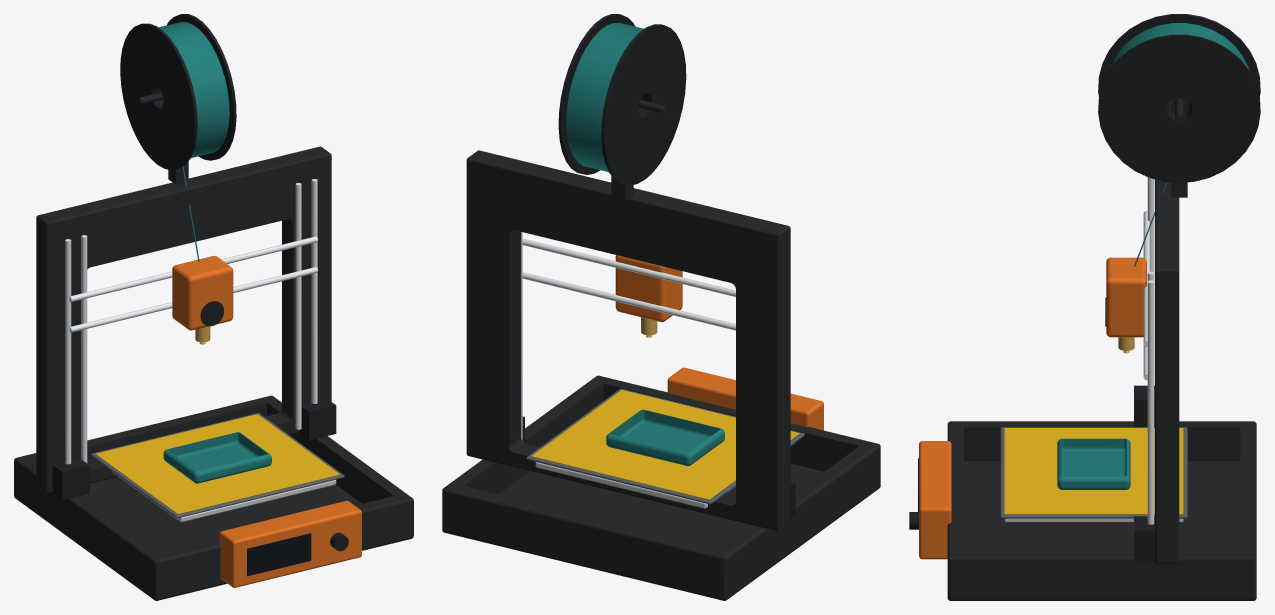
The model's file is printer-3d.glb.
3 views of the same model, side by side, from view 1: azimuth 30°, elevation 25°; view 2: azimuth 150°, elevation 25°; view 3: azimuth 270°, elevation 25° (orthographic). The views are drawn at different scales.
Parts seen in each view (by area): view 1: p3d_frame, p3d_base, p3d_pei, p3d_spool, p3d_rails, p3d_lcd_box, p3d_filament, p3d_xcarriage, p3d_print, p3d_motor_z, p3d_lcd, p3d_bed (+1 smaller); view 2: p3d_frame, p3d_base, p3d_spool, p3d_pei, p3d_filament, p3d_print, p3d_rails, p3d_lcd_box, p3d_xcarriage, p3d_bed, p3d_ycarriage, p3d_spool_holder; view 3: p3d_base, p3d_spool, p3d_frame, p3d_pei, p3d_print, p3d_lcd_box, p3d_rails, p3d_xcarriage, p3d_bed, p3d_motor_z, p3d_filament, p3d_ycarriage (+1 smaller).
Part boxes in pixels (bbox=[...]): p3d_frame: bbox=[36, 146, 331, 493]; p3d_base: bbox=[14, 395, 413, 600]; p3d_pei: bbox=[95, 414, 339, 513]; p3d_spool: bbox=[120, 14, 236, 170]; p3d_rails: bbox=[65, 179, 318, 464]; p3d_lcd_box: bbox=[219, 500, 361, 587]; p3d_filament: bbox=[158, 22, 229, 157]; p3d_xcarriage: bbox=[172, 255, 233, 330]; p3d_print: bbox=[163, 432, 271, 483]; p3d_motor_z: bbox=[52, 398, 336, 500]; p3d_lcd: bbox=[247, 533, 311, 576]; p3d_bed: bbox=[91, 413, 344, 518]; p3d_frame: bbox=[466, 150, 790, 531]; p3d_base: bbox=[442, 375, 880, 600]; p3d_spool: bbox=[558, 14, 686, 185]; p3d_pei: bbox=[531, 390, 799, 499]; p3d_filament: bbox=[566, 23, 643, 171]; p3d_print: bbox=[606, 409, 724, 465]; p3d_rails: bbox=[521, 232, 735, 440]; p3d_lcd_box: bbox=[667, 367, 823, 430]; p3d_xcarriage: bbox=[615, 255, 682, 322]; p3d_bed: bbox=[526, 388, 804, 504]; p3d_ycarriage: bbox=[535, 442, 795, 508]; p3d_spool_holder: bbox=[611, 100, 667, 200]; p3d_base: bbox=[947, 421, 1256, 600]; p3d_spool: bbox=[1098, 14, 1260, 182]; p3d_frame: bbox=[1155, 179, 1179, 563]; p3d_pei: bbox=[1004, 428, 1183, 514]; p3d_print: bbox=[1057, 438, 1130, 489]; p3d_lcd_box: bbox=[919, 441, 951, 559]; p3d_rails: bbox=[1143, 177, 1154, 524]; p3d_xcarriage: bbox=[1106, 257, 1146, 337]; p3d_bed: bbox=[1000, 427, 1187, 518]; p3d_motor_z: bbox=[1134, 385, 1154, 561]; p3d_filament: bbox=[1109, 23, 1248, 69]; p3d_ycarriage: bbox=[1004, 518, 1183, 522].
Size of the model in its own units: 0.44 by 0.6895 by 0.4319.
